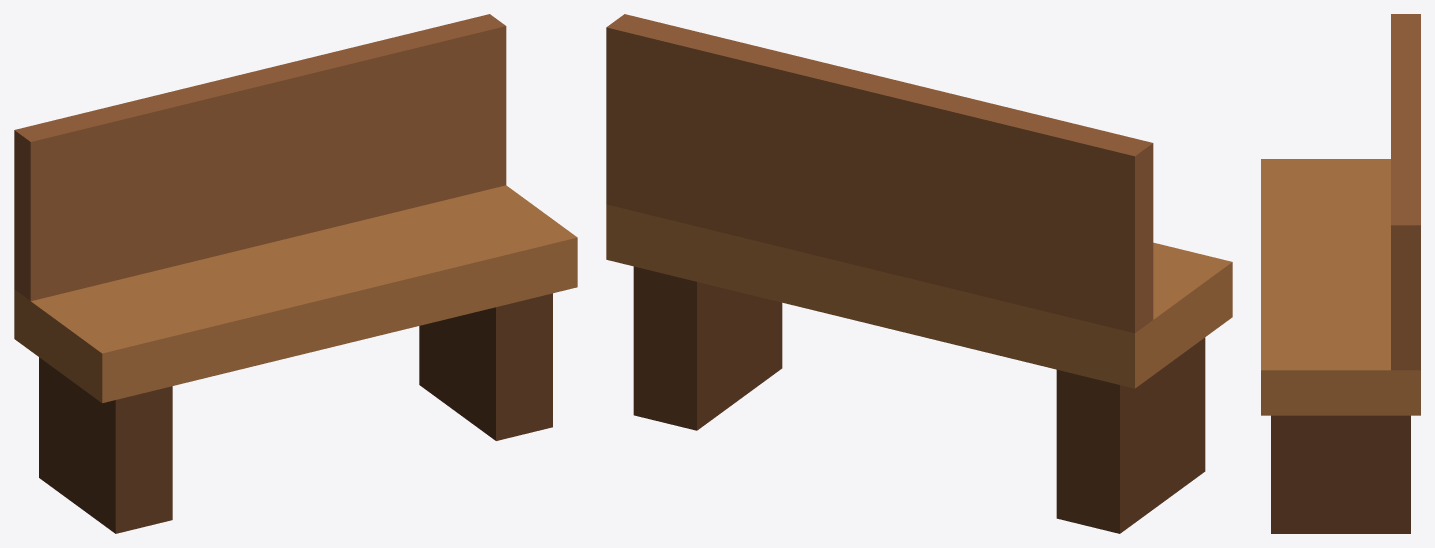
Rendered from Bench.glb.
3 renders of one model, left to right at view 1: azimuth 30°, elevation 25°; view 2: azimuth 150°, elevation 25°; view 3: azimuth 270°, elevation 25°, orthographic. The views are drawn at different scales.
Parts seen in each view (by area): view 1: Bench; view 2: Bench; view 3: Bench.
Boxes of the visible parts, x1,y1,x2,y2 form: Bench: [14, 14, 577, 533]; Bench: [606, 14, 1232, 533]; Bench: [1261, 14, 1420, 533].
Size of the model in its own units: 5 by 3.5 by 1.6.
1 material, 1 textured.
